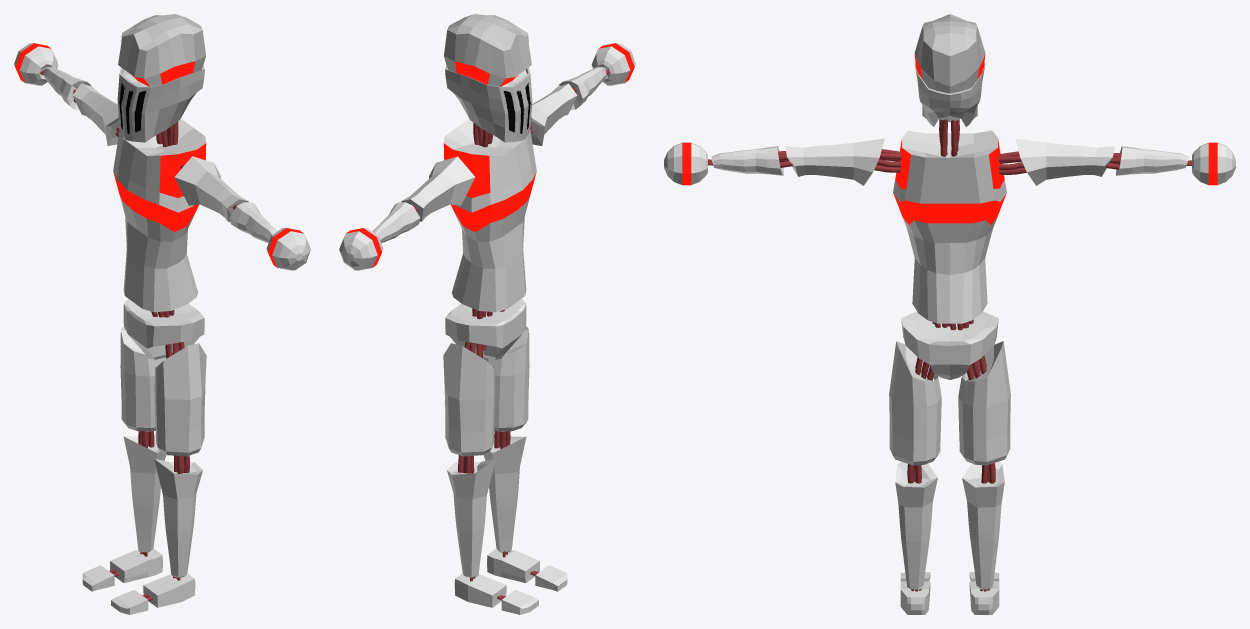
Rendered from Androide.fbx.
3 views of the same model, side by side, from view 1: azimuth 30°, elevation 25°; view 2: azimuth 150°, elevation 25°; view 3: azimuth 270°, elevation 25° (orthographic). The views are drawn at different scales.
Parts seen in each view (by area): view 1: Robot, Casco, Exo; view 2: Robot, Casco, Exo; view 3: Robot, Casco, Exo.
Boxes of the visible parts, x1,y1,x2,y2 form: Robot: [14, 43, 310, 614]; Casco: [117, 14, 205, 142]; Exo: [40, 70, 237, 600]; Robot: [339, 43, 635, 614]; Casco: [444, 14, 532, 142]; Exo: [414, 70, 609, 600]; Robot: [664, 86, 1235, 614]; Casco: [914, 14, 985, 126]; Exo: [708, 119, 1191, 591].
Bounding box in the file's own units: 198 × 1064 × 941.
